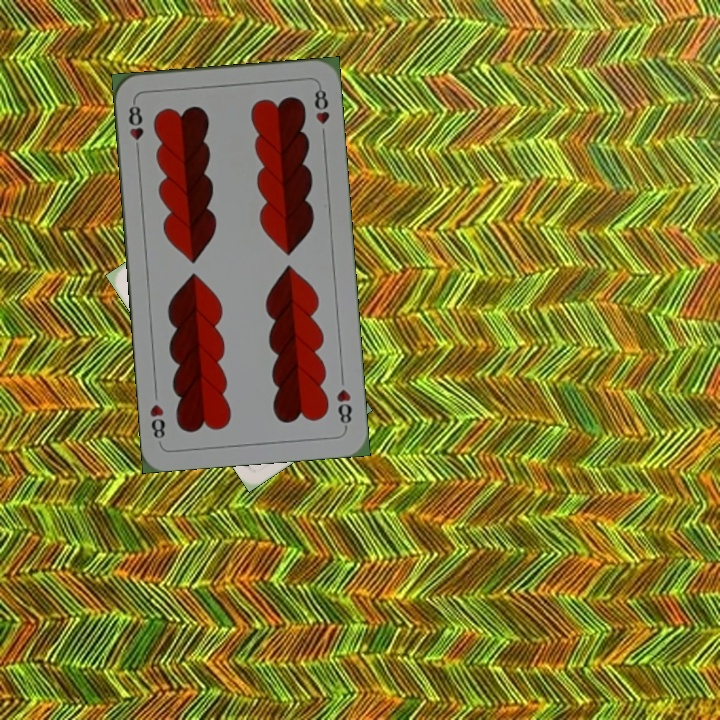H8: (125, 97, 146, 156), (332, 385, 354, 431)
